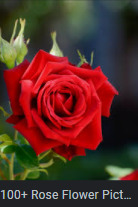RedRose: (0, 54, 112, 159)
